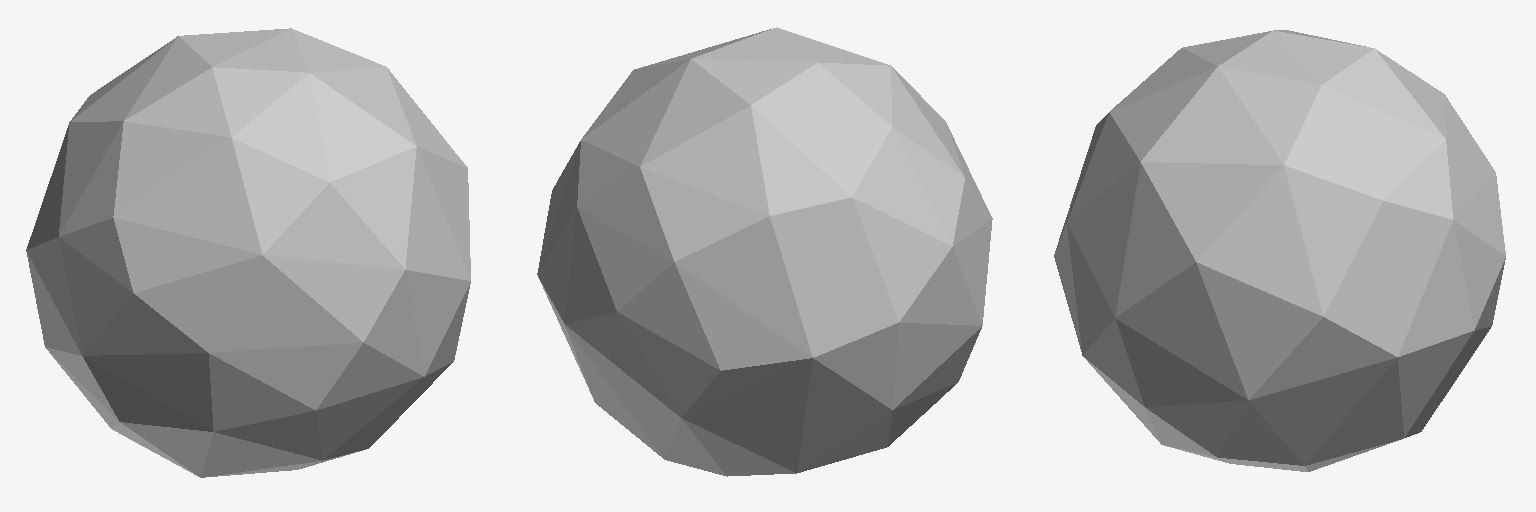
3 views of the same model, side by side, from view 1: azimuth 30°, elevation 25°; view 2: azimuth 150°, elevation 25°; view 3: azimuth 270°, elevation 25° (orthographic).
Visible parts, largest first — view 1: ai_model; view 2: ai_model; view 3: ai_model.
Boxes of the visible parts, <box> form: ai_model: <box>26,28,470,477</box>; ai_model: <box>537,27,992,476</box>; ai_model: <box>1054,30,1505,471</box>.
Bounding box in the file's own units: 0.7515 × 0.7492 × 0.7579.